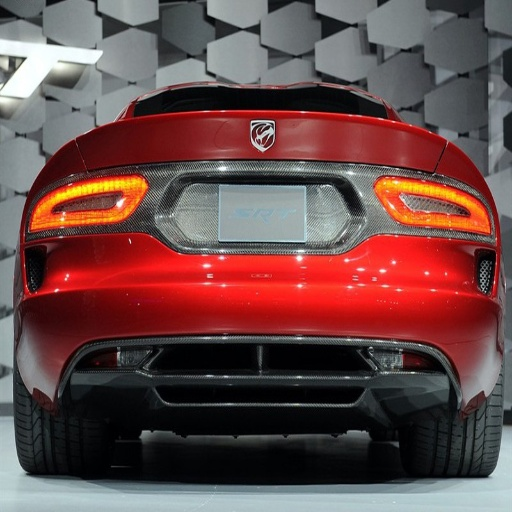back_bumper: (16, 303, 195, 411), (406, 362, 496, 409)
back_glass: (207, 3, 319, 86)
back_right_light: (43, 177, 132, 238)
tailgate: (201, 130, 305, 255)
trunk: (29, 200, 453, 338), (112, 110, 372, 216)
